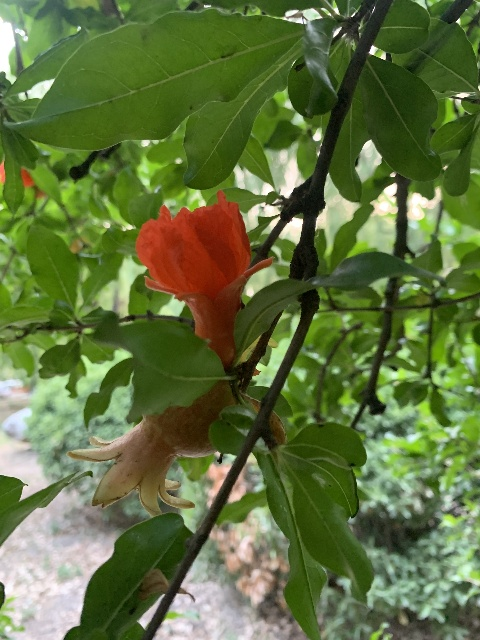early-fruit: (66, 380, 240, 517)
flower: (135, 189, 274, 371), (0, 160, 41, 195)
